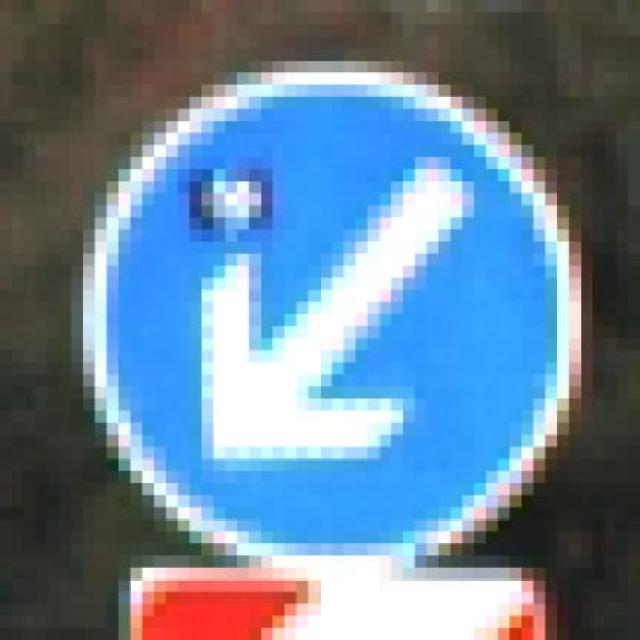Keep-Left: (70, 48, 604, 580)
